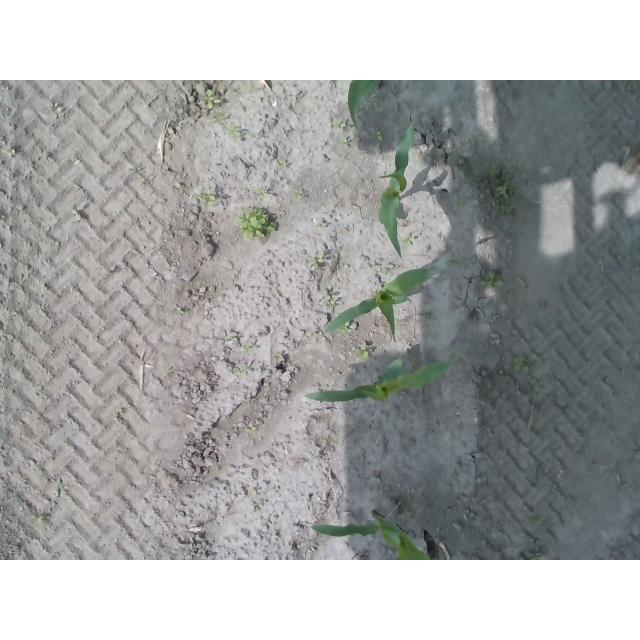Maize: (324, 255, 450, 344), (301, 358, 451, 411), (309, 512, 431, 561), (377, 125, 414, 259), (349, 80, 384, 130)
Weeds: (237, 207, 278, 241), (490, 165, 515, 215), (478, 270, 505, 291), (512, 355, 532, 374), (203, 90, 221, 110), (400, 233, 418, 247), (355, 345, 370, 360), (50, 479, 62, 497), (228, 124, 243, 138), (200, 193, 216, 206), (2, 146, 17, 159), (309, 258, 324, 270), (255, 190, 270, 201), (245, 423, 258, 434), (371, 131, 384, 142), (324, 295, 336, 306), (340, 322, 351, 333), (271, 353, 283, 363), (232, 367, 244, 377), (293, 189, 305, 199), (215, 111, 226, 121), (243, 345, 254, 353), (336, 121, 345, 130), (175, 307, 184, 316), (340, 138, 349, 145)
